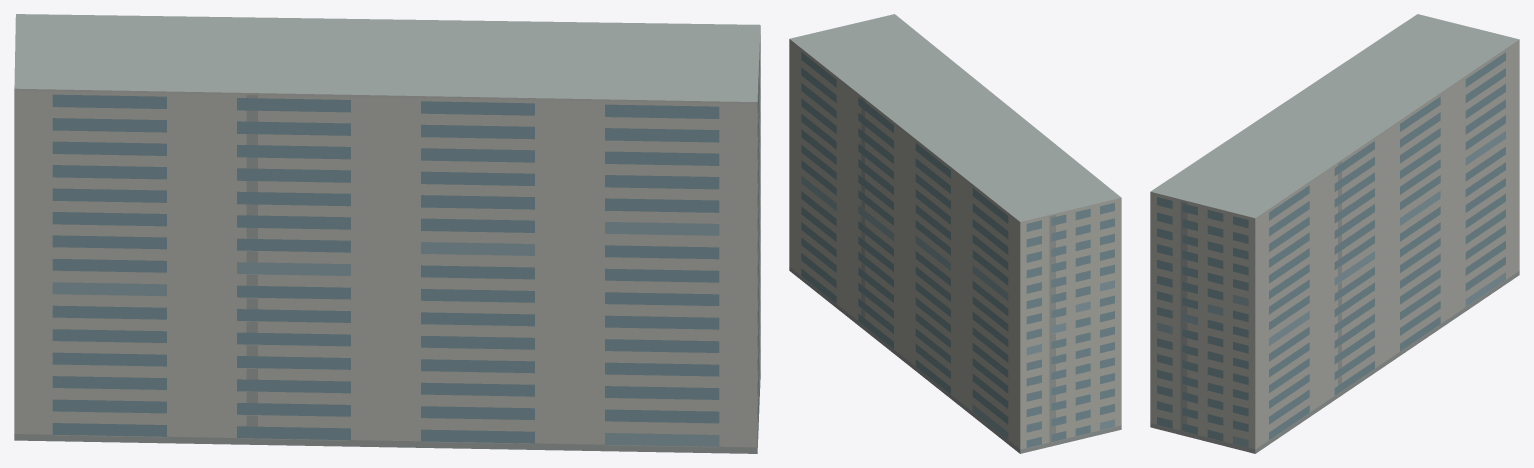
Rendered from residential-93afebaf-2dfa-475d-8fa2-de31058e6e9e.glb.
The picture shows the model from 3 angles, left to right: view 1: azimuth 30°, elevation 25°; view 2: azimuth 150°, elevation 25°; view 3: azimuth 270°, elevation 25°; orthographic projection. The views are drawn at different scales.
Parts seen in each view (by area): view 1: residential-93afebaf-2dfa-475d-8fa2-de31058e6e9e.tmp; view 2: residential-93afebaf-2dfa-475d-8fa2-de31058e6e9e.tmp; view 3: residential-93afebaf-2dfa-475d-8fa2-de31058e6e9e.tmp.
Boxes of the visible parts, left/top/right/bottom form: residential-93afebaf-2dfa-475d-8fa2-de31058e6e9e.tmp: left=14, top=14, right=760, bottom=453; residential-93afebaf-2dfa-475d-8fa2-de31058e6e9e.tmp: left=789, top=14, right=1121, bottom=453; residential-93afebaf-2dfa-475d-8fa2-de31058e6e9e.tmp: left=1150, top=14, right=1519, bottom=453.
Bounding box in the file's own units: 76.25 × 41 × 58.25.
